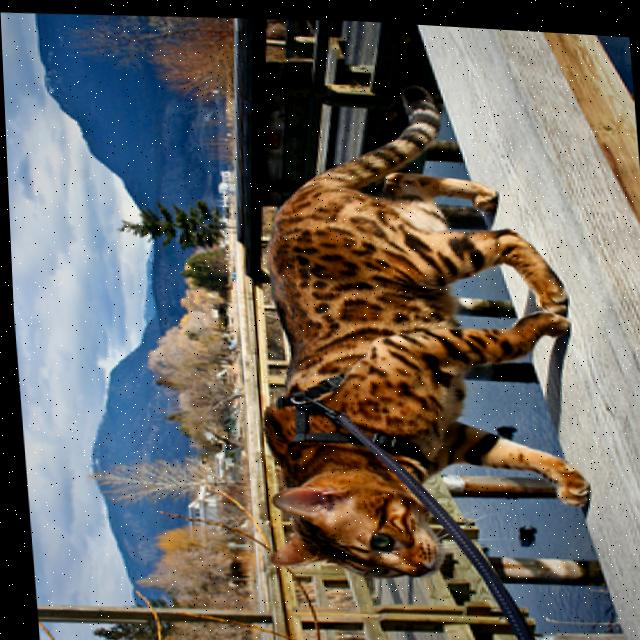Bengal: (218, 58, 592, 601)
